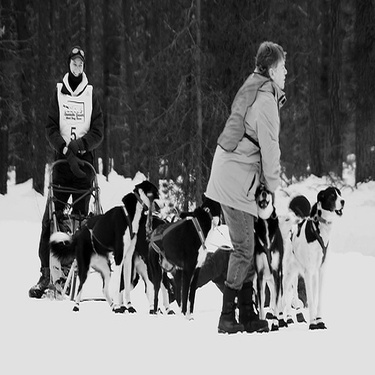dog: (38, 175, 168, 323), (279, 181, 344, 333), (149, 188, 220, 321), (238, 179, 289, 336), (116, 214, 168, 318), (278, 187, 314, 323)
